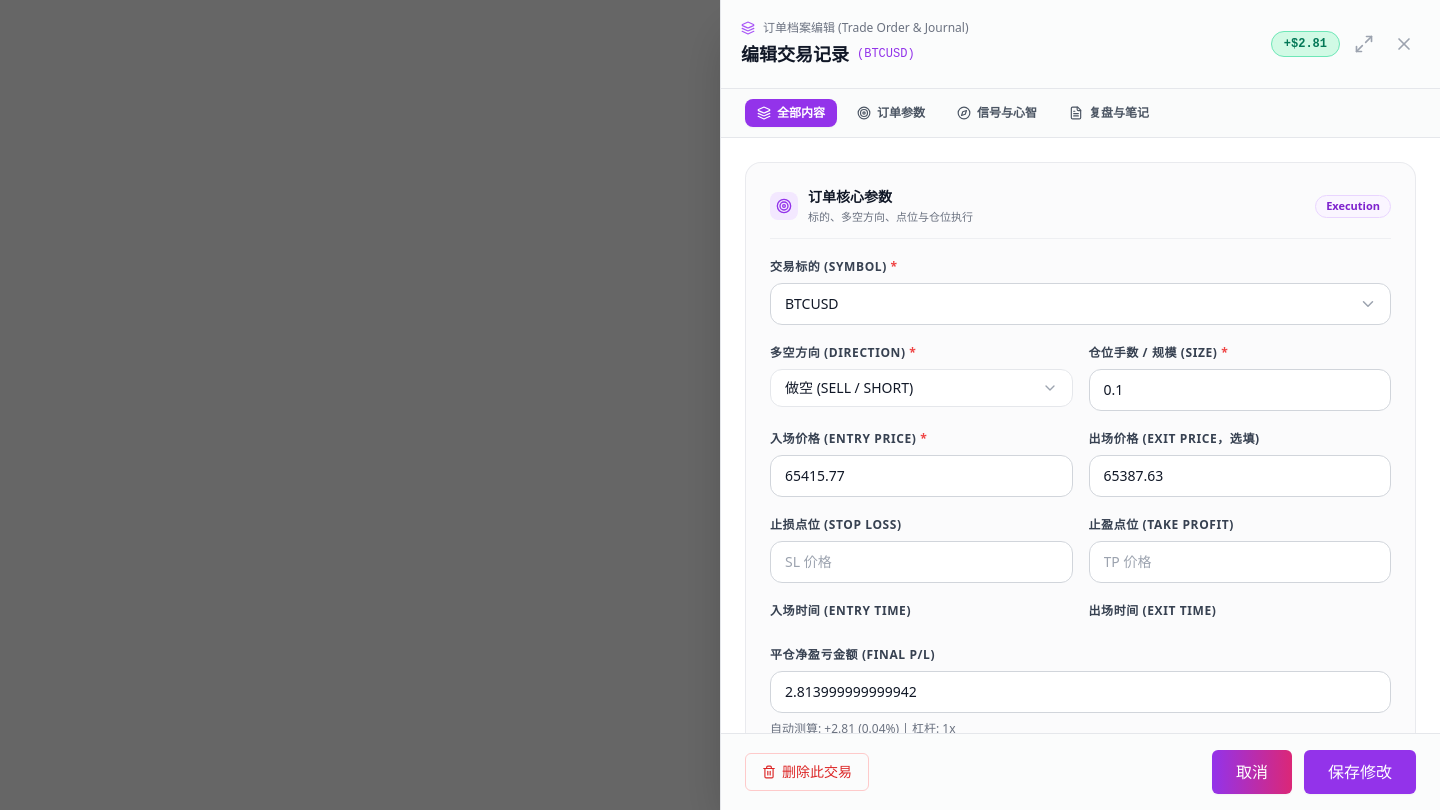
Test: TradeDrawer - Layout & Spacing › filters visible sections when switching tabs
// Click "订单参数" tab
Step 1. Click the button "订单参数" → {"x": 891, "y": 113}, box [845,99,937,127]
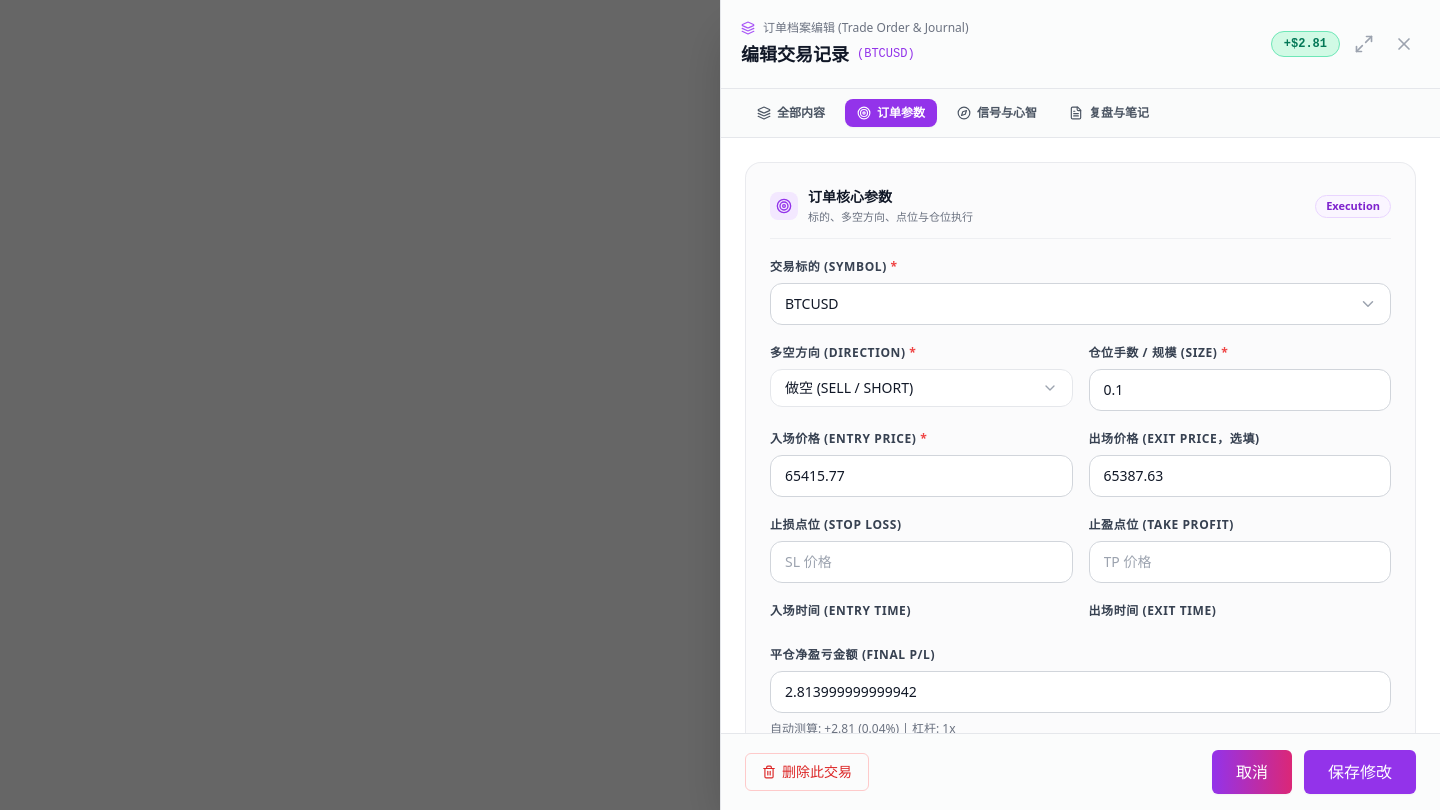
Check: the heading "订单核心参数" is shown, box [808,187,892,206]
Check: the text "策略信号与交易心智" is not shown
// Click "信号与心智" tab
Step 2. Click the button "信号与心智" → {"x": 997, "y": 113}, box [945,99,1049,127]
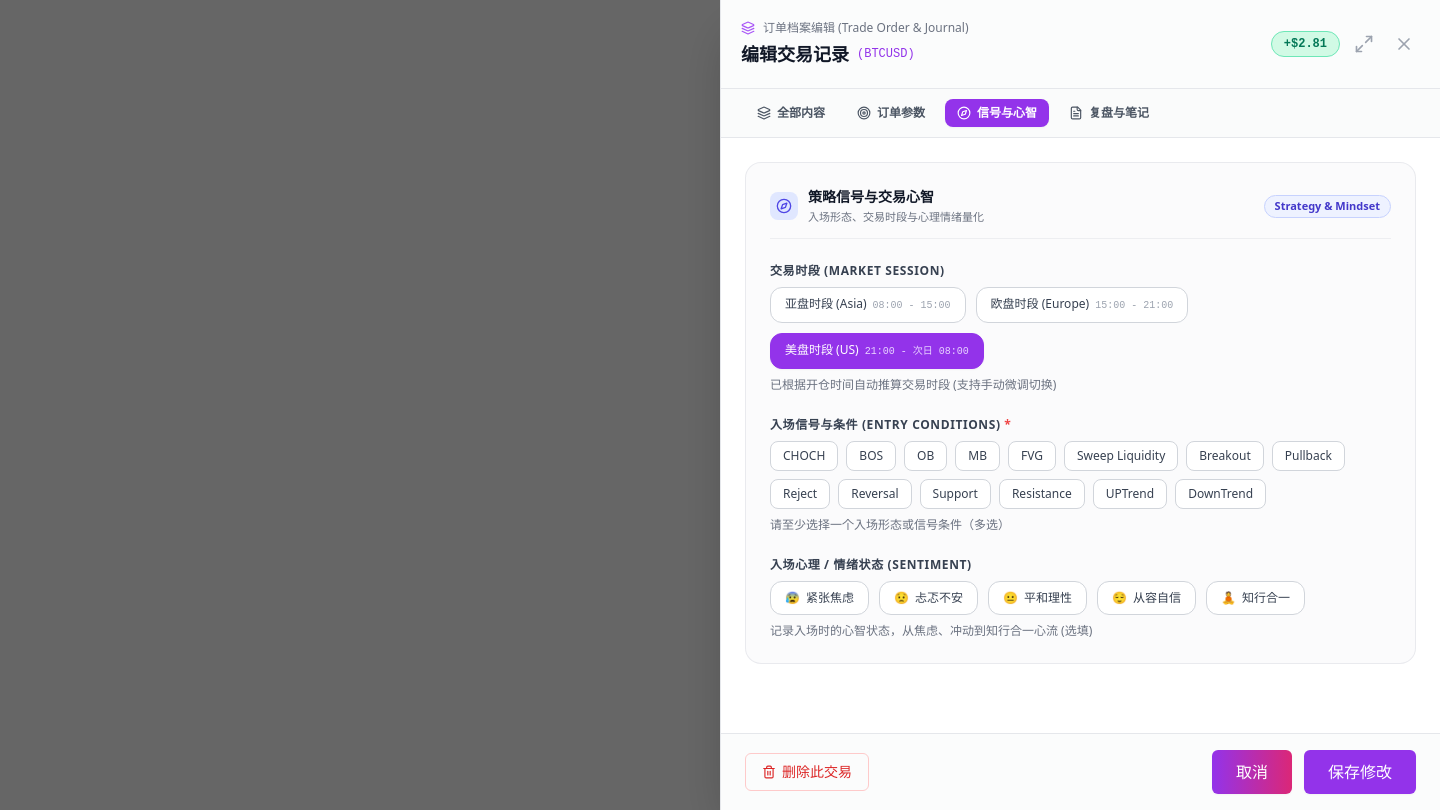
Check: the text "复盘反思与执行评估" is not shown
Check: the heading "订单核心参数" is gone
Check: the heading "策略信号与交易心智" is shown, box [808,187,934,206]
// Click "复盘与笔记" tab
Step 3. Click the button "复盘与笔记" → {"x": 1109, "y": 113}, box [1057,99,1161,127]
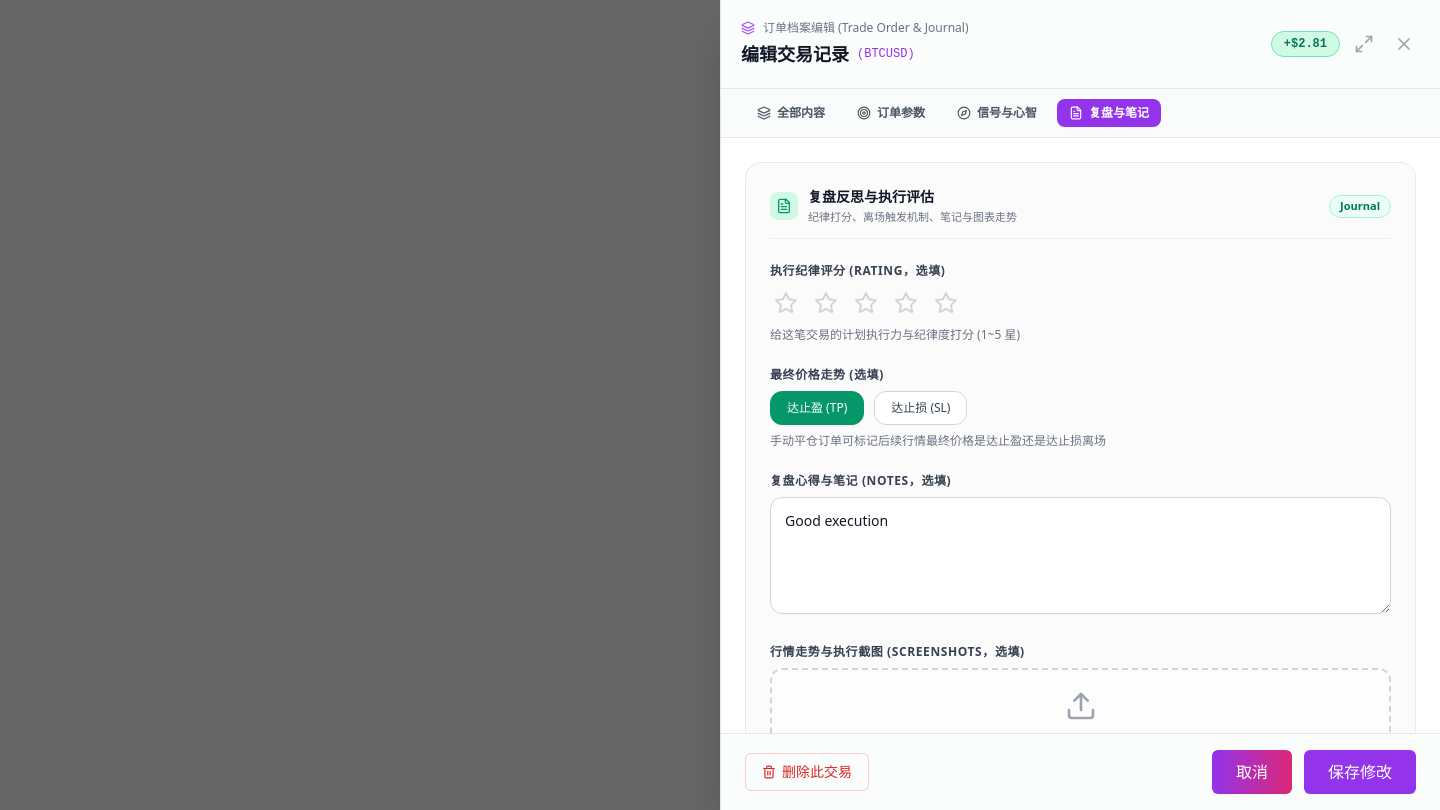
Check: the heading "订单核心参数" is not shown
Check: the heading "策略信号与交易心智" is gone
Check: the heading "复盘反思与执行评估" is shown, box [808,187,934,206]
